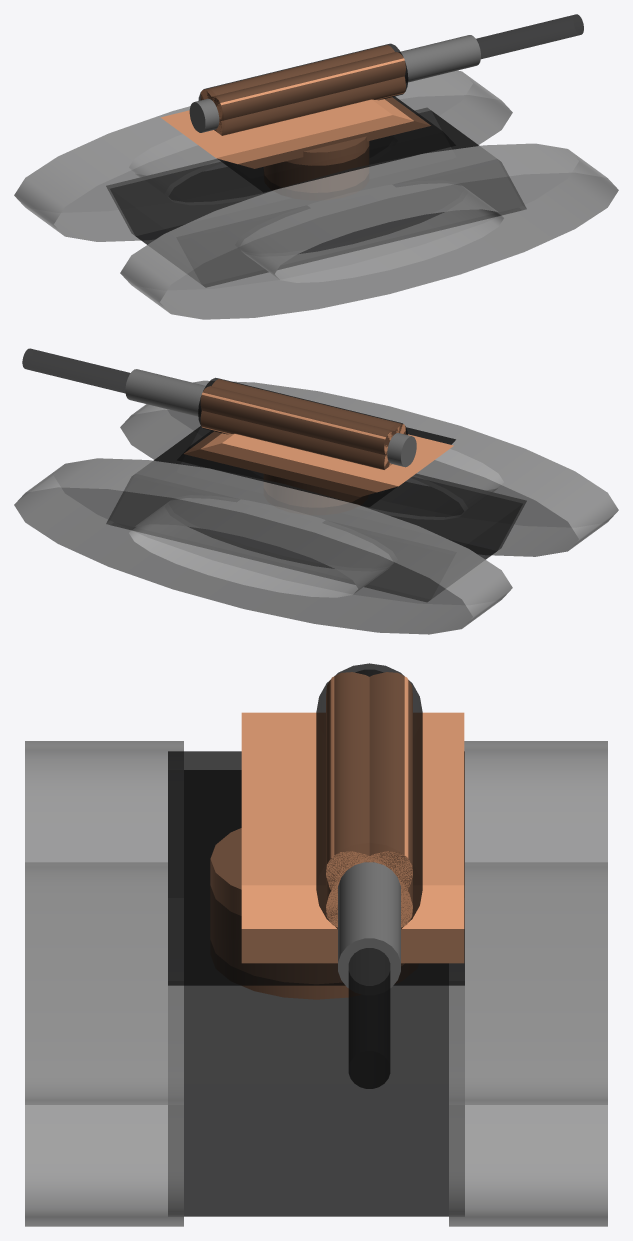
Rendered from tronTankfbx.fbx.
3 views of the same model, one above another, from view 1: azimuth 30°, elevation 25°; view 2: azimuth 150°, elevation 25°; view 3: azimuth 270°, elevation 25° (orthographic). The views are drawn at different scales.
Visible parts, largest first — view 1: polySurface1; view 2: polySurface1; view 3: polySurface1.
Boxes of the visible parts, left/top/right/bottom form: polySurface1: left=14, top=14, right=618, bottom=319; polySurface1: left=14, top=348, right=618, bottom=634; polySurface1: left=25, top=663, right=607, bottom=1226.
Bounding box in the file's own units: 11 × 3.4 × 5.5.
